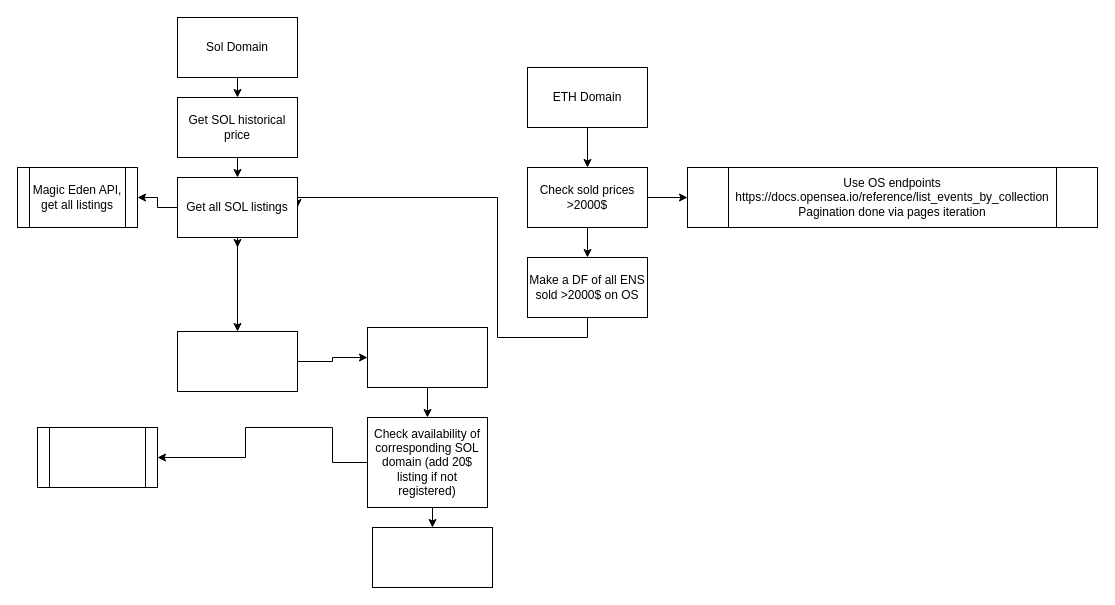
The diagram is 1115 pixels wide and 605 high, and some of its shapes have lost their labels. Here are the shapes that lost their labels. From the top down, the box of each, then its label:
(176, 330, 298, 392): Merge listings on ETH listings
(366, 326, 488, 388): For missing listings in SOL check if not registered
(36, 426, 158, 488): QuickNode API with SNS endpoints
(372, 526, 492, 588): Merge listings from SOL to ETH prices in a DF to compare ROI
